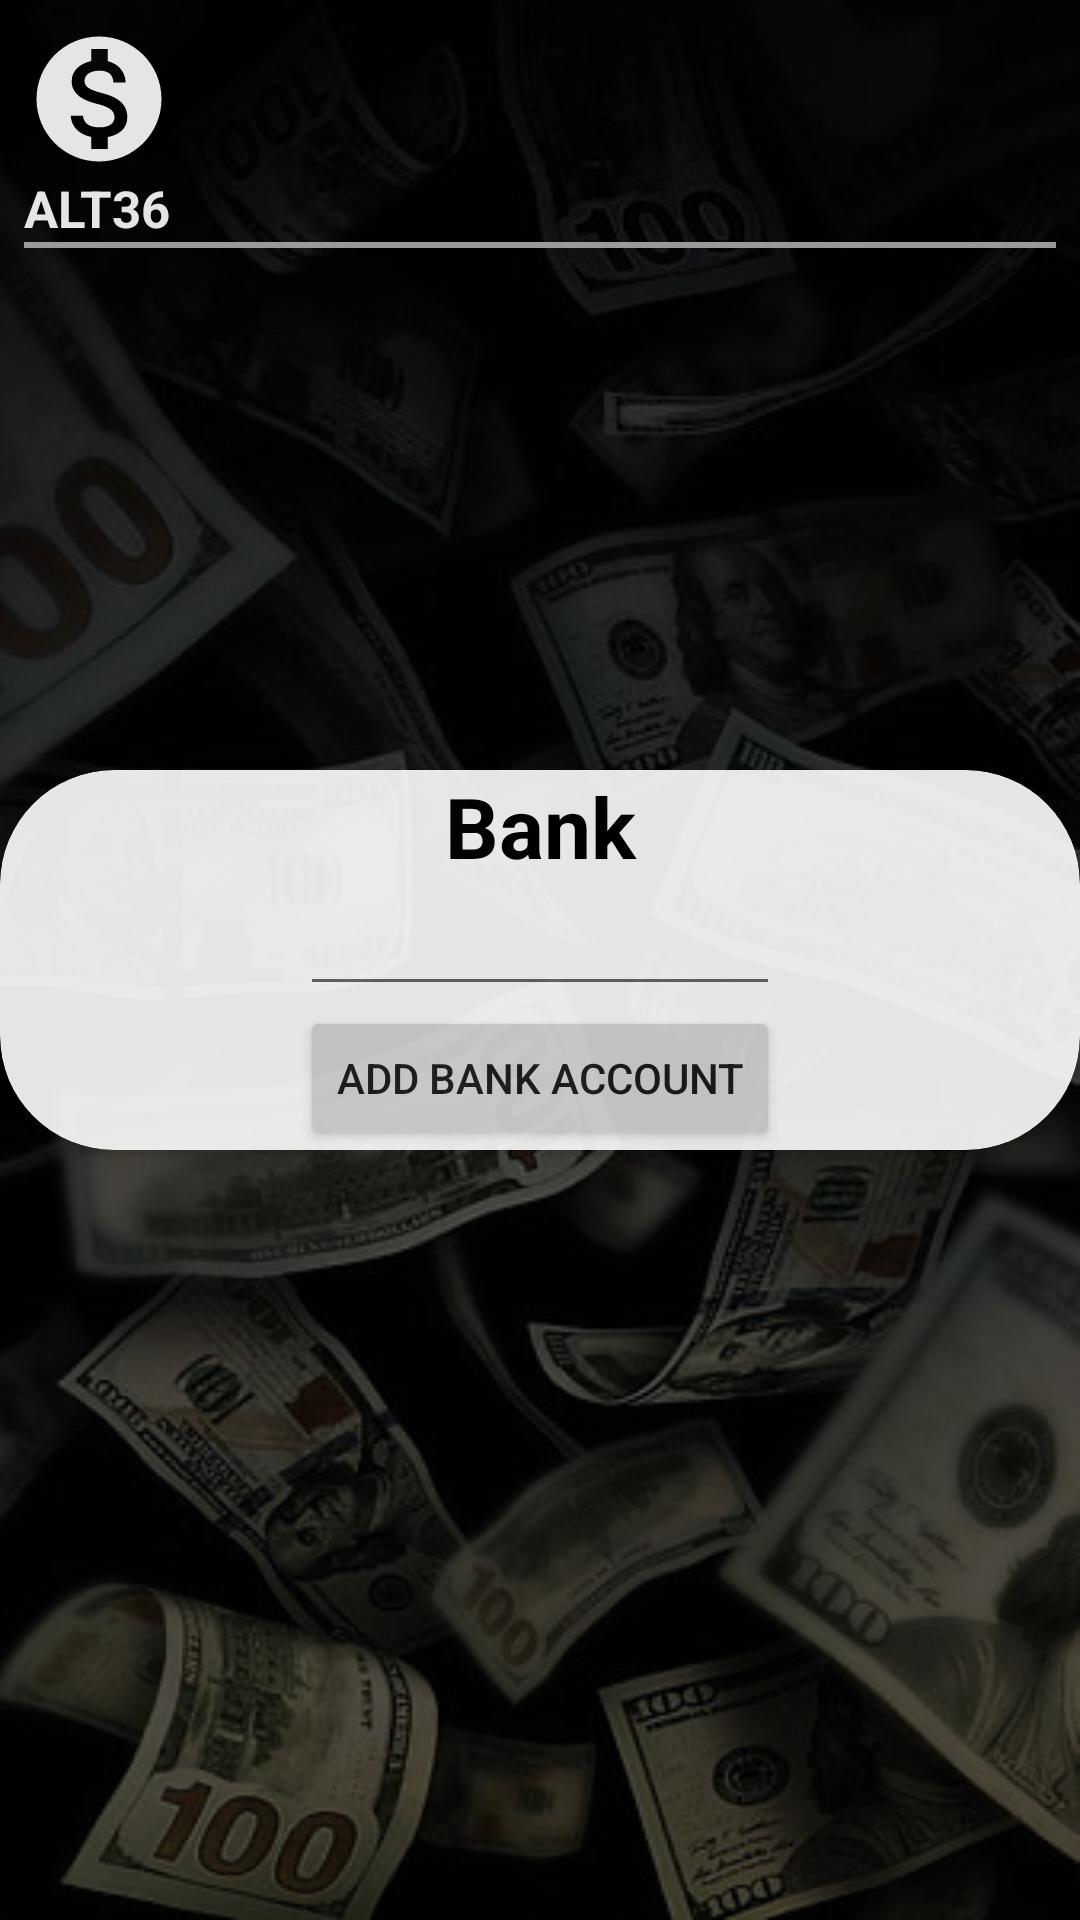

Icons on this 1080x1920 Android screen, each with the point to tap as (x,y):
monetization on: (99,99)
